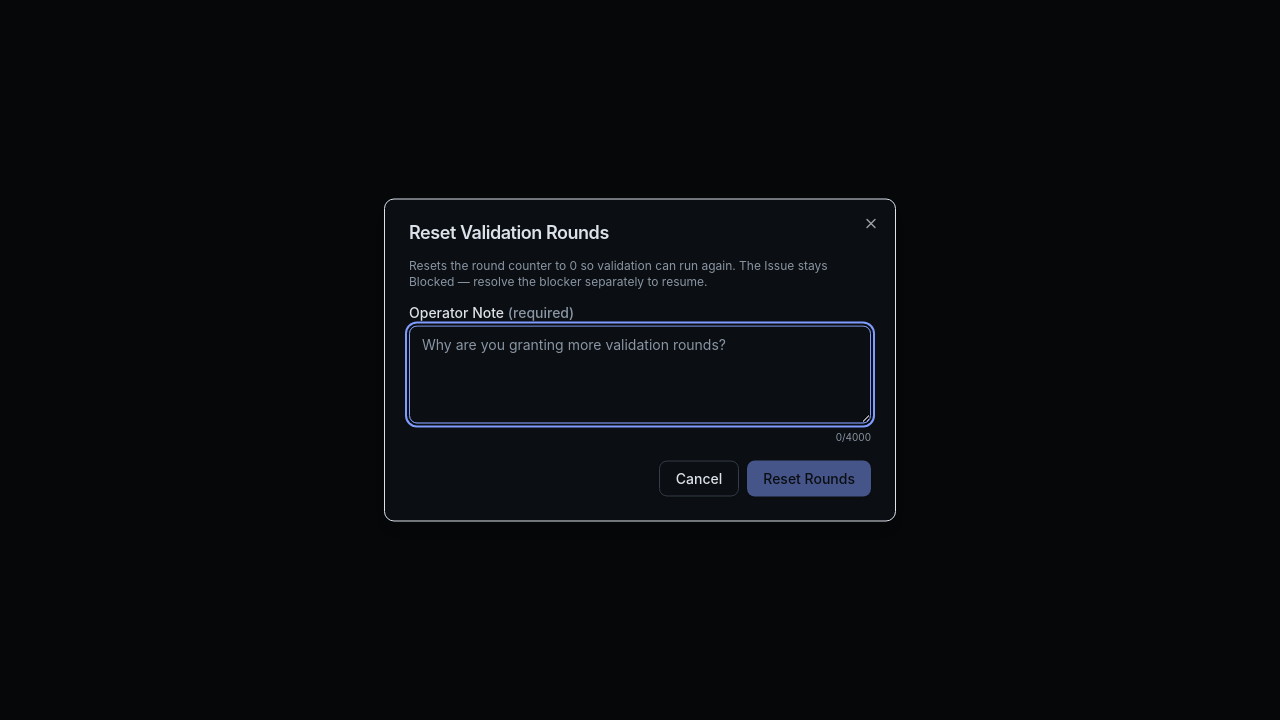
Scenario: ResetRoundsDialog › shows a server error and keeps the dialog open
In the text box: (640, 374) [409,326,871,424], type "note"
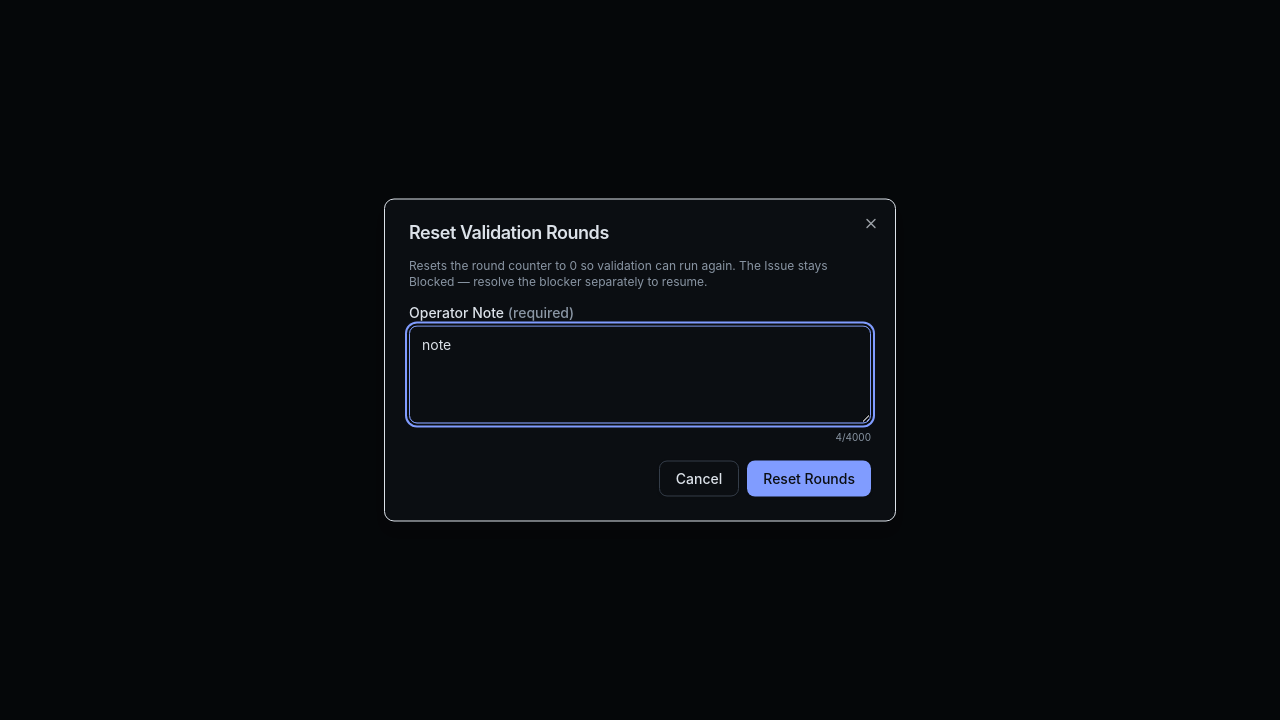
Click the button "Reset Rounds": (809, 478) [747,460,871,496]
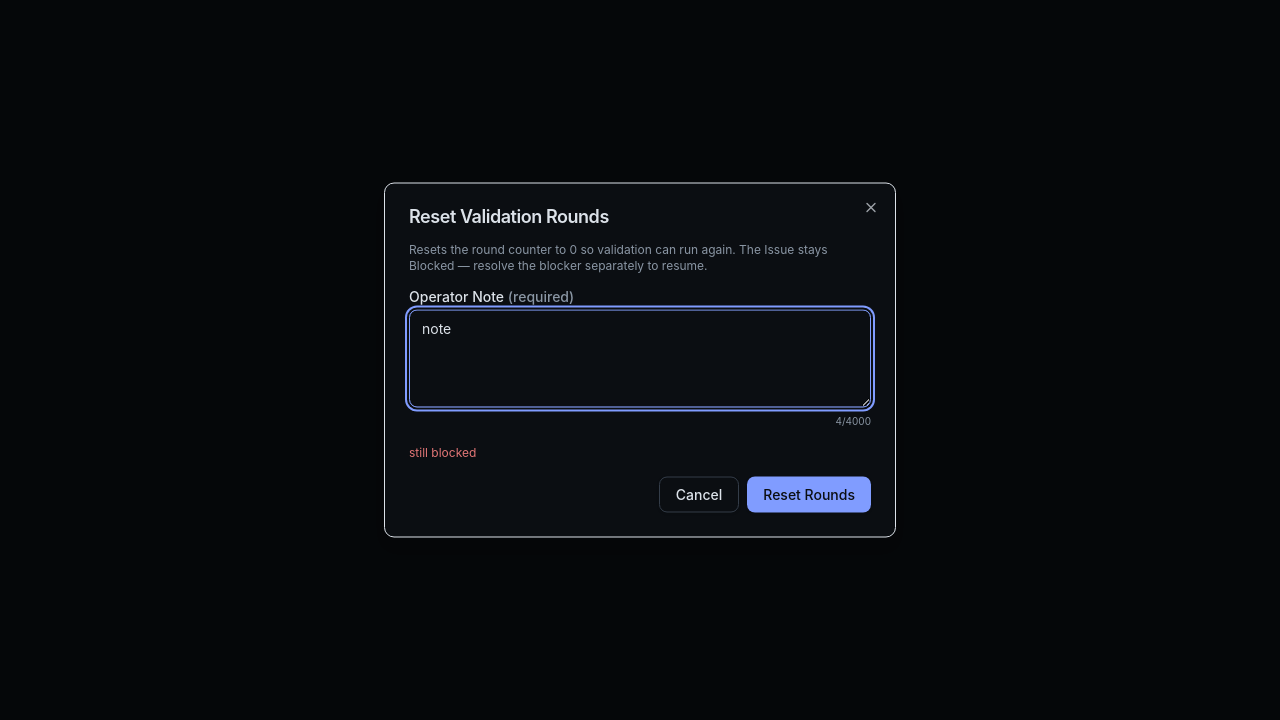
Now the text "still blocked" is shown, box [409,444,476,460]
